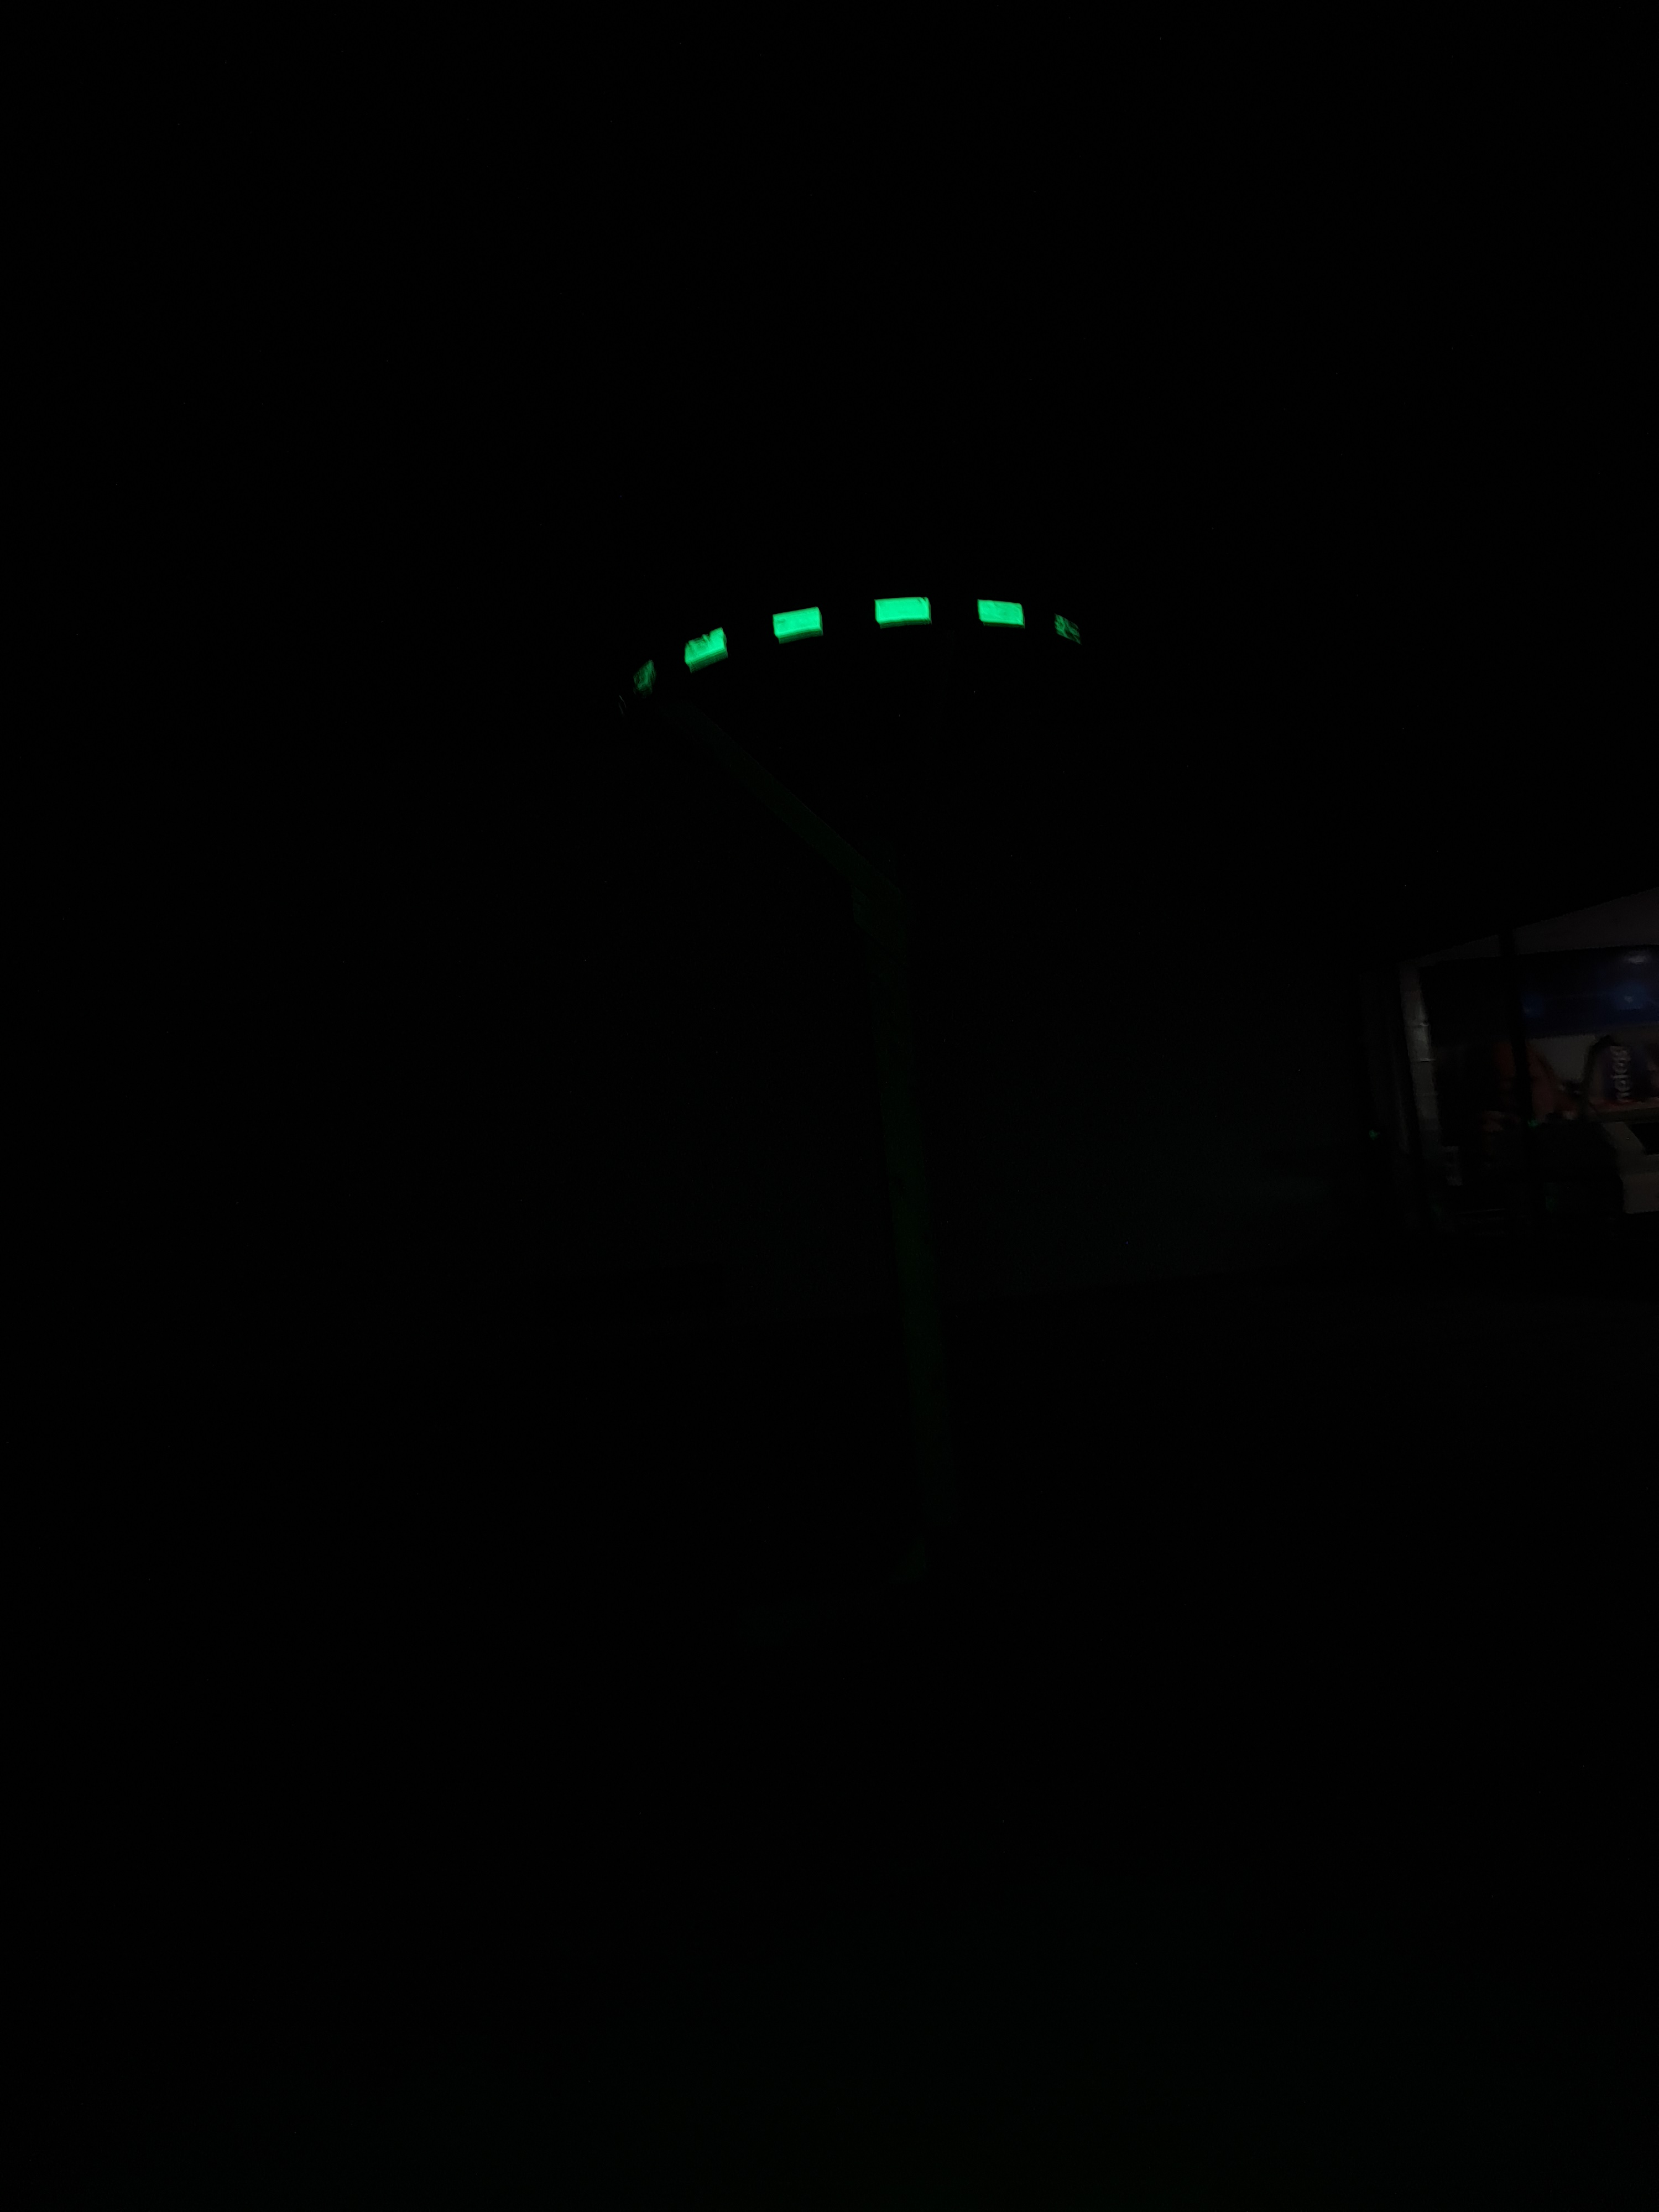hoop: (627, 570, 1108, 702)
